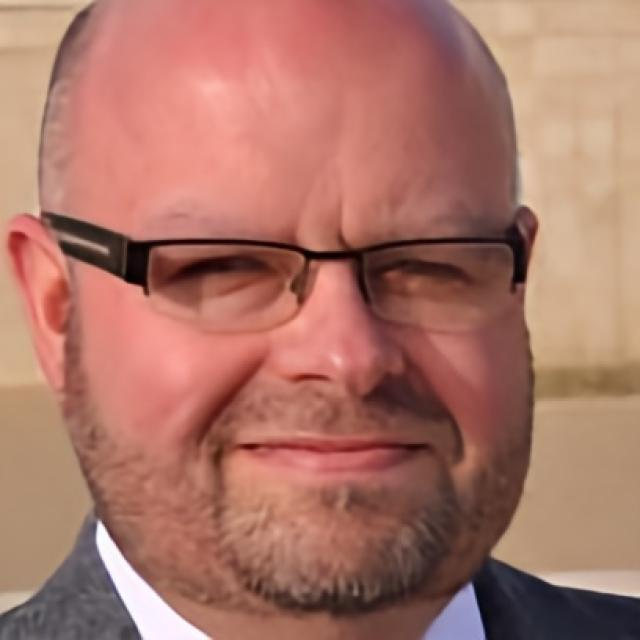anger: (99, 92, 521, 622)
